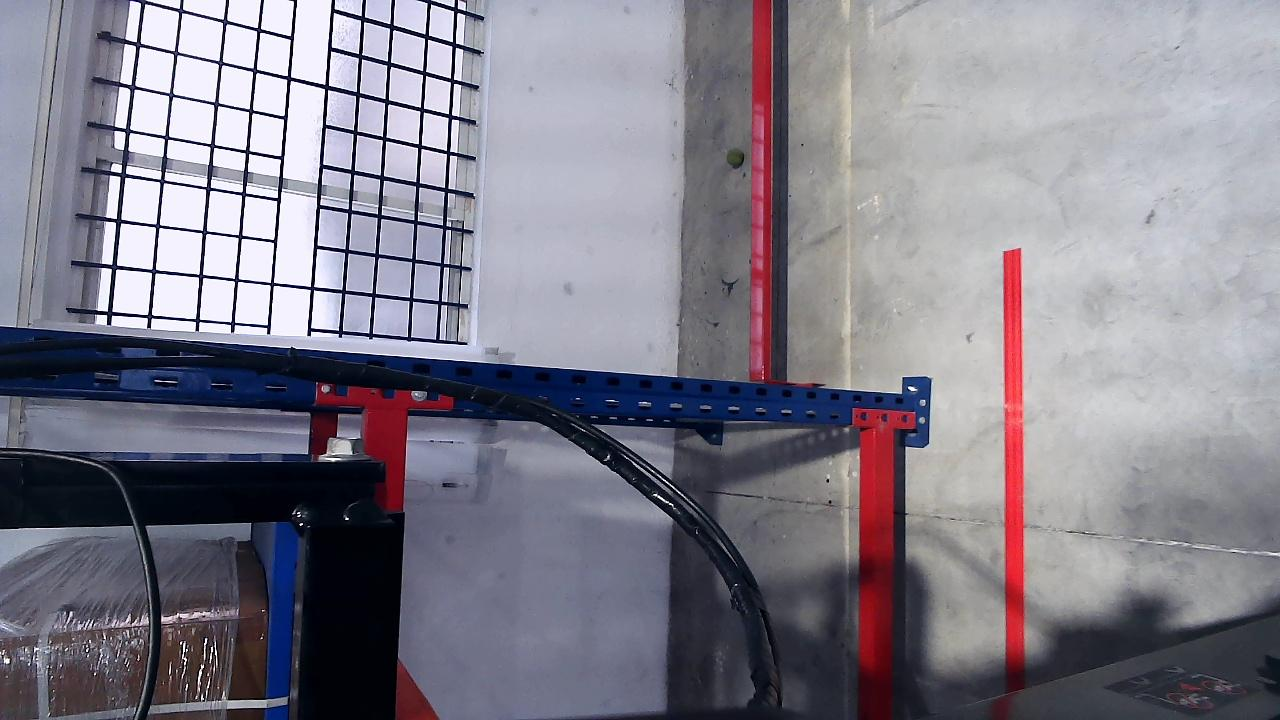h_rack: (855, 427, 900, 717), (353, 407, 407, 615), (746, 4, 775, 375)
red_line: (1002, 248, 1027, 685)
